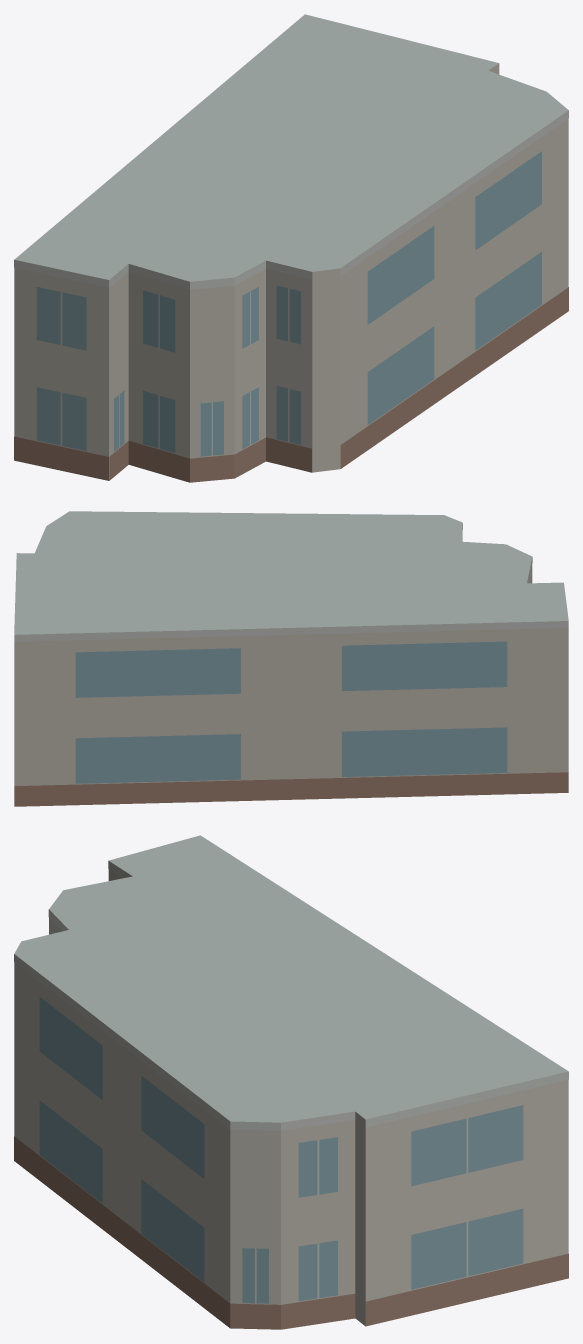
Rendered from survey-upis-32676310.glb.
3 views of the same model, one above another, from view 1: azimuth 30°, elevation 25°; view 2: azimuth 150°, elevation 25°; view 3: azimuth 270°, elevation 25° (orthographic). The views are drawn at different scales.
Visible parts, largest first — view 1: survey-upis-32676310.tmp; view 2: survey-upis-32676310.tmp; view 3: survey-upis-32676310.tmp.
Boxes of the visible parts, left/top/right/bottom form: survey-upis-32676310.tmp: left=14, top=14, right=568, bottom=482; survey-upis-32676310.tmp: left=14, top=511, right=568, bottom=806; survey-upis-32676310.tmp: left=14, top=835, right=568, bottom=1329.
Bounding box in the file's own units: 18.18 × 6.1 × 14.83.
